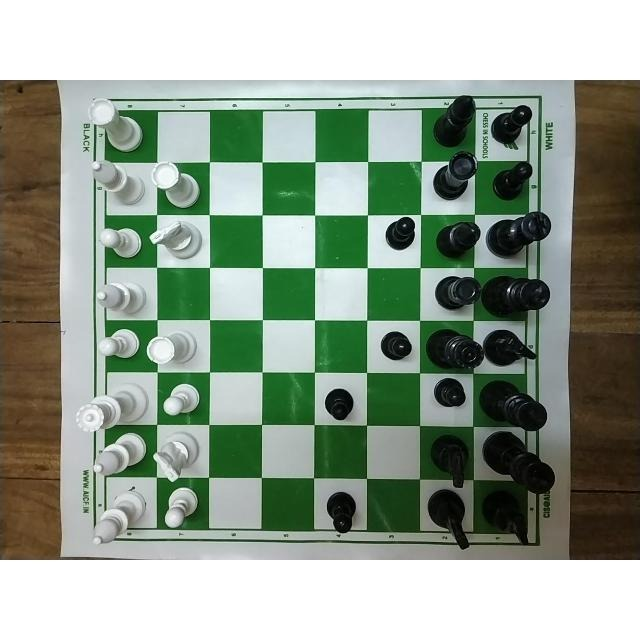black-bishop: (432, 95, 476, 147), (435, 220, 481, 258)
black-king: (480, 433, 556, 493), (480, 378, 548, 429), (484, 212, 552, 259), (483, 275, 550, 317)
black-knight: (480, 490, 534, 546), (426, 490, 474, 550), (428, 434, 470, 490), (481, 329, 538, 365)
black-pawn: (489, 105, 532, 145), (492, 162, 532, 200), (325, 492, 358, 532), (377, 330, 413, 362), (384, 215, 416, 250), (434, 376, 466, 410), (324, 385, 352, 421)
black-queen: (424, 327, 484, 371)
black-rook: (433, 150, 479, 202), (431, 274, 482, 310)
white-bishop: (90, 490, 146, 547), (89, 159, 147, 206), (90, 433, 145, 477), (94, 280, 148, 312)
white-knight: (151, 431, 199, 482), (148, 217, 203, 261)
white-pawn: (96, 222, 142, 258), (162, 487, 199, 530), (95, 328, 139, 360), (162, 379, 198, 416)
white-queen: (74, 381, 148, 431)
white-rook: (86, 97, 145, 153), (150, 160, 200, 208), (144, 329, 197, 365)
